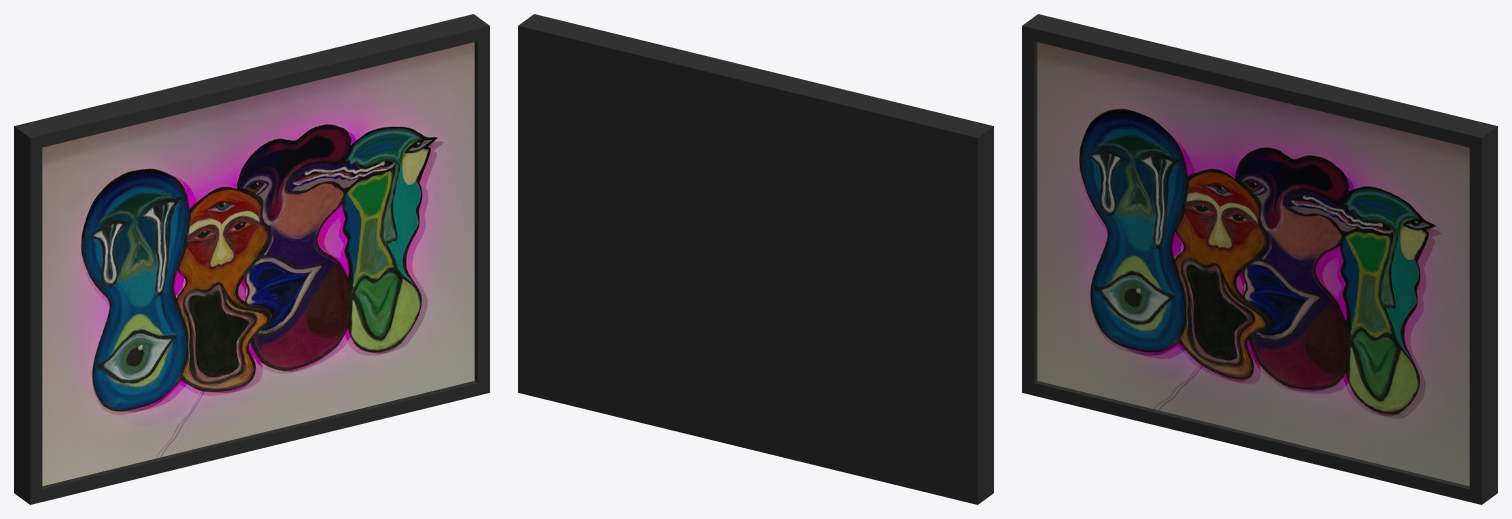
Rendered from ART26_IMG_3248.fbx.
The picture shows the model from 3 angles, left to right: view 1: azimuth 30°, elevation 25°; view 2: azimuth 150°, elevation 25°; view 3: azimuth 330°, elevation 25°; orthographic projection.
Parts seen in each view (by area): view 1: ART26_IMG_3248; view 2: ART26_IMG_3248; view 3: ART26_IMG_3248.
Boxes of the visible parts, x1,y1,x2,y2 form: ART26_IMG_3248: [14, 14, 489, 504]; ART26_IMG_3248: [518, 14, 993, 504]; ART26_IMG_3248: [1022, 14, 1497, 504].
Bounding box in the file's own units: 95 × 5.75 × 72.5.
Materials: 2 (1 with a texture image).
